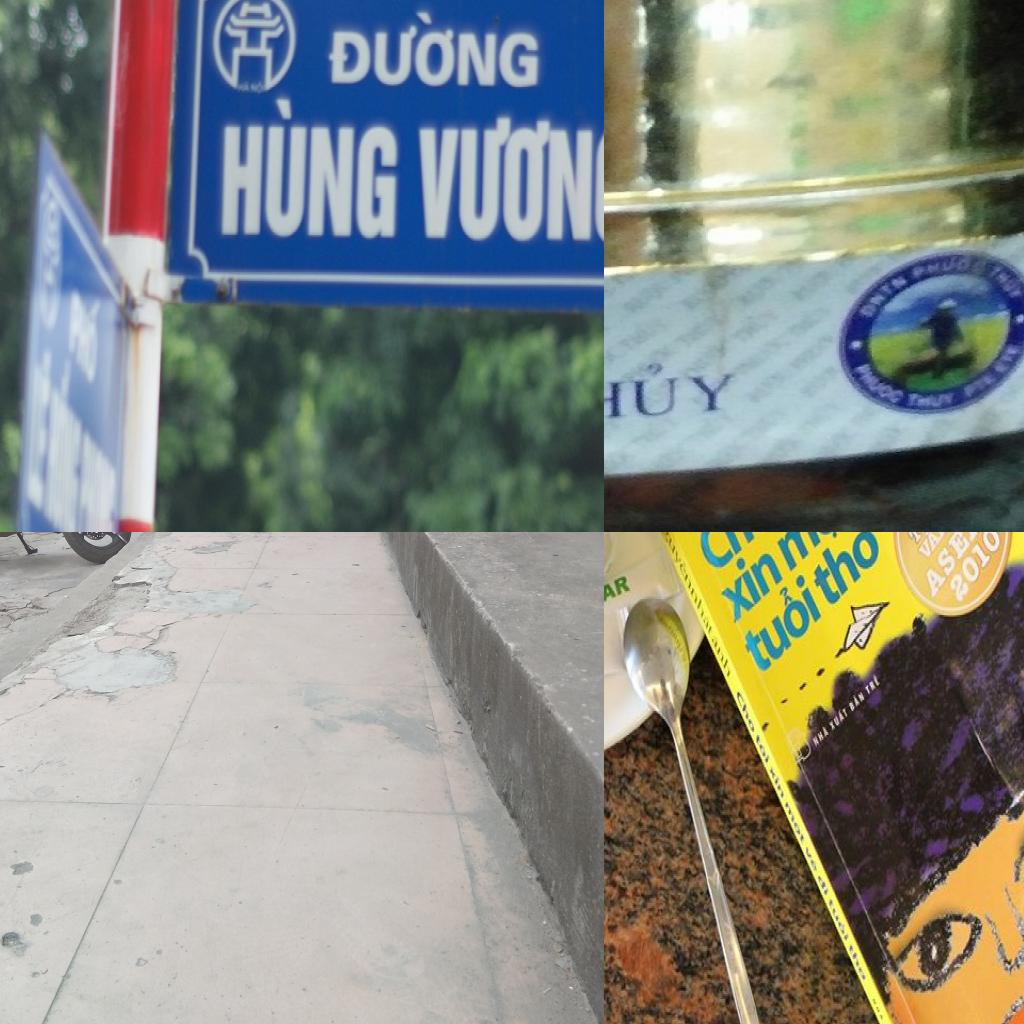text: (220, 94, 401, 241), (414, 114, 604, 244), (325, 6, 541, 92), (737, 566, 826, 682), (604, 358, 744, 425), (714, 532, 790, 628), (808, 532, 888, 618), (919, 532, 1002, 605), (946, 532, 1004, 610), (690, 532, 780, 580), (772, 532, 869, 576), (849, 360, 908, 410), (856, 271, 912, 320), (654, 532, 696, 594), (908, 254, 990, 282), (985, 260, 1024, 302), (709, 631, 736, 682), (690, 585, 715, 639), (827, 895, 852, 945), (783, 799, 807, 850), (914, 532, 952, 563), (735, 688, 757, 736), (906, 390, 958, 409), (847, 942, 869, 984), (768, 762, 787, 802), (754, 732, 773, 768), (827, 703, 849, 733), (803, 840, 820, 876), (848, 687, 867, 716), (815, 871, 832, 900), (812, 724, 830, 751), (864, 671, 882, 698), (256, 81, 264, 97)
